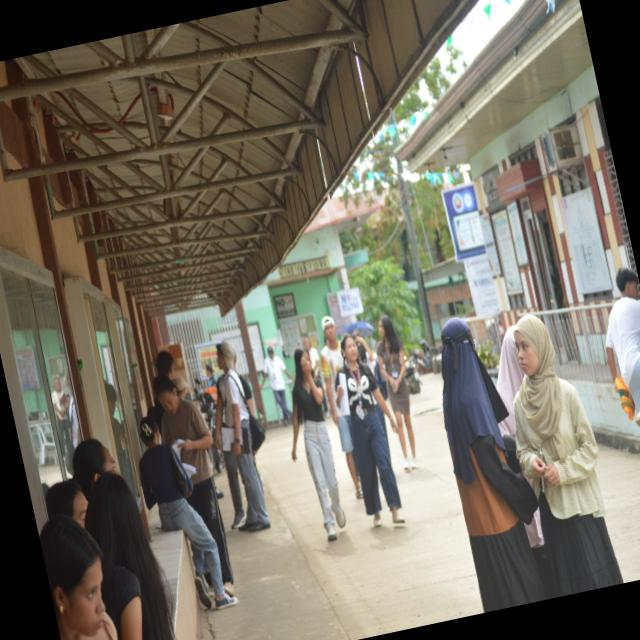person: (514, 315, 622, 595), (442, 318, 542, 611), (139, 417, 238, 609), (154, 376, 234, 596), (86, 473, 175, 639), (335, 335, 404, 526), (215, 342, 270, 532), (292, 349, 345, 541), (39, 516, 117, 639), (321, 316, 363, 498), (377, 315, 419, 470), (606, 268, 639, 425), (497, 327, 523, 468), (261, 347, 294, 425), (73, 439, 115, 500), (46, 480, 87, 527), (303, 336, 320, 378)
